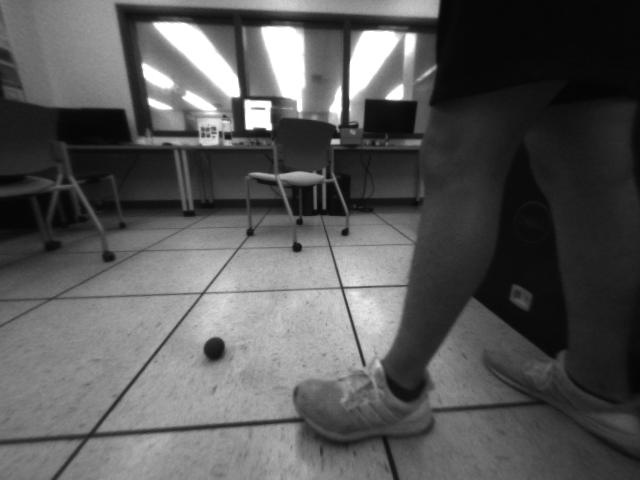dogtoy: (192, 327, 236, 368)
